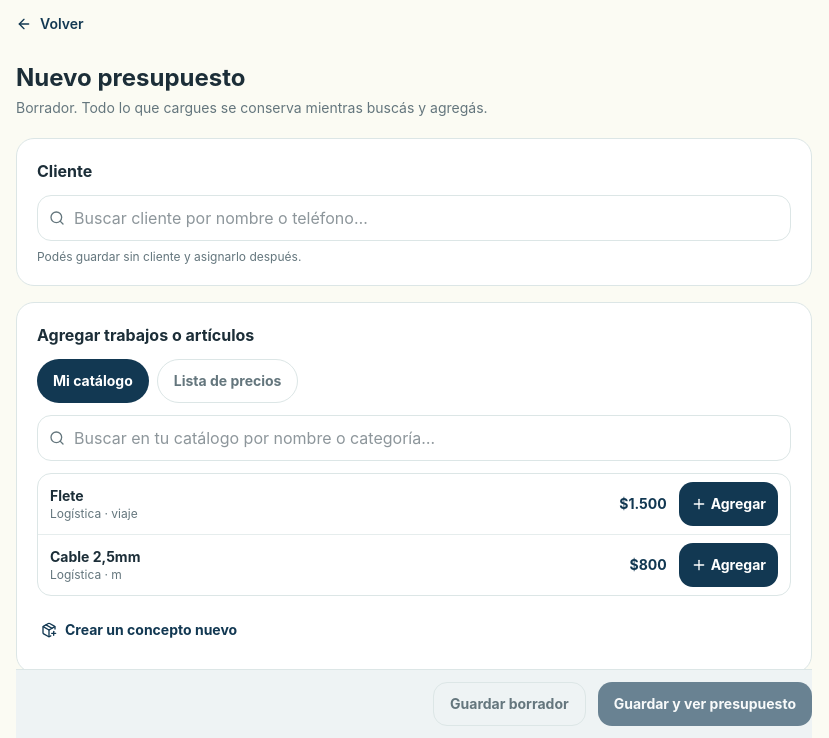
Test: guardado: sin duplicados › un error del servidor se muestra y no cierra el formulario
Click the button with aria-label "Agregar Flete".
click(728, 504)  # box [679, 482, 778, 526]
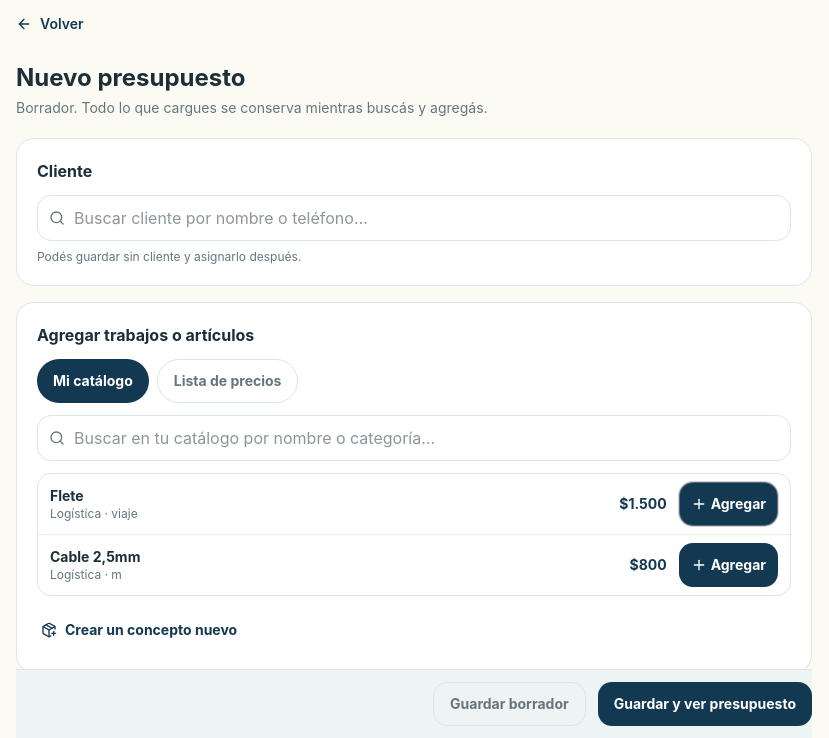
Click the button "Guardar y ver presupuesto".
click(705, 704)  # box [598, 682, 812, 726]
(page scrolled)
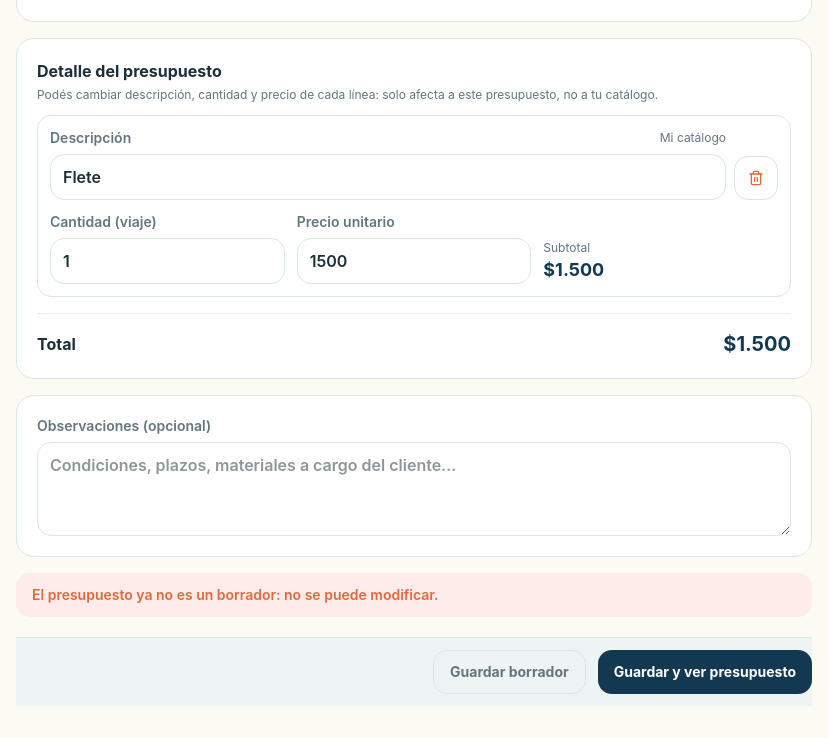
Check: the text "El presupuesto ya no es un borrador: no se puede modificar." is shown, box [16, 573, 812, 617]
